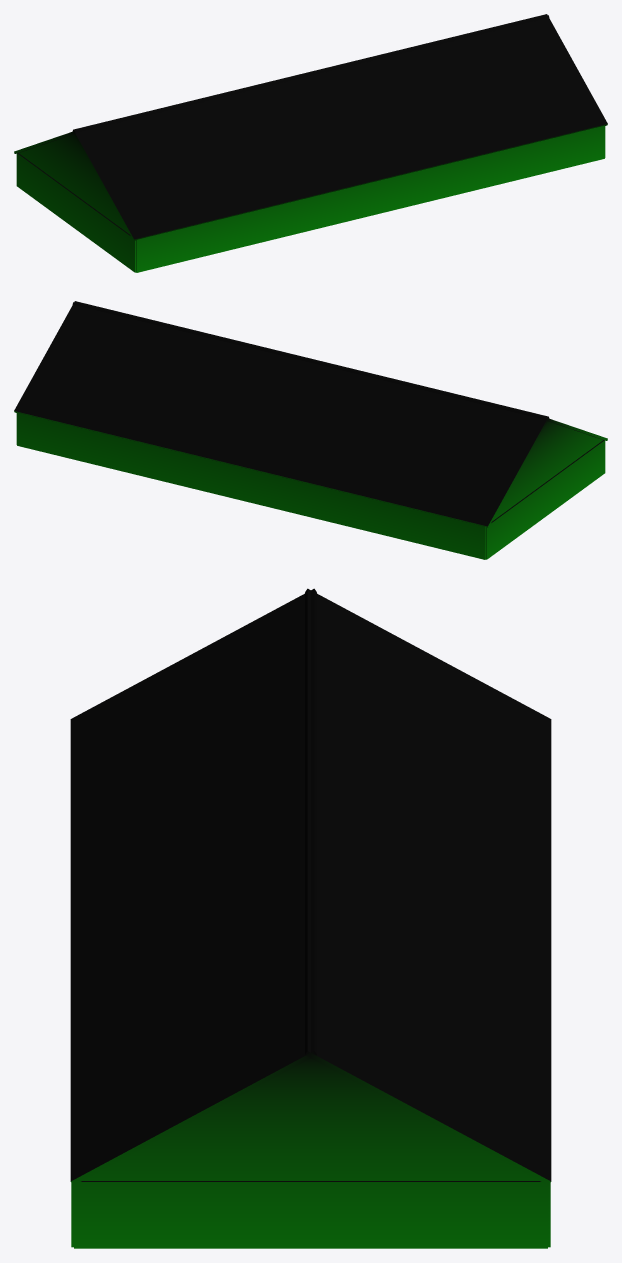
File: longtent.glb
3 renders of one model, top to bottom at view 1: azimuth 30°, elevation 25°; view 2: azimuth 150°, elevation 25°; view 3: azimuth 270°, elevation 25°, orthographic. The views are drawn at different scales.
Parts seen in each view (by area): view 1: lod0; view 2: lod0; view 3: lod0.
Boxes of the visible parts, bbox=[...] form: lod0: bbox=[14, 14, 607, 272]; lod0: bbox=[14, 301, 607, 559]; lod0: bbox=[70, 588, 551, 1248].
Size of what is drawn, in the model's own units: 16.4 by 3.29 by 7.2.
